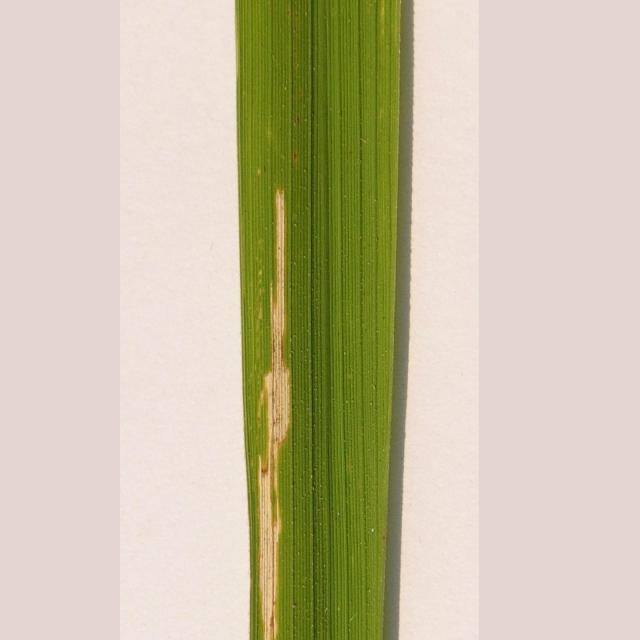Bacterial leaf blight: (253, 167, 300, 446), (250, 446, 298, 640)
